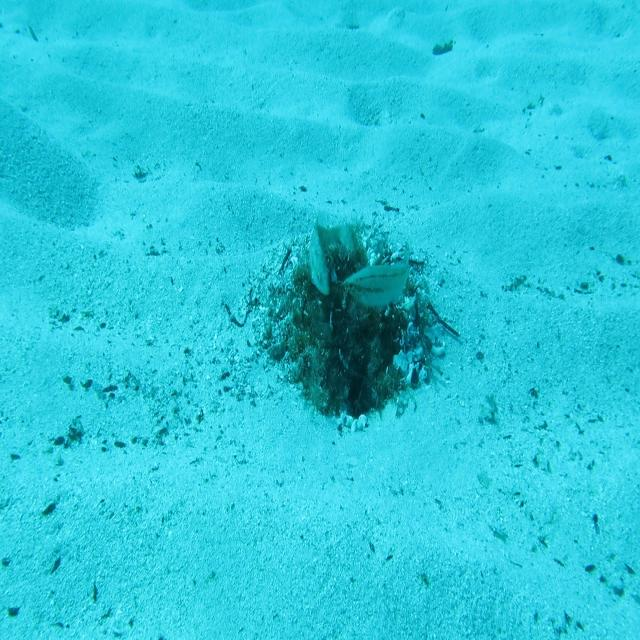SPA: (306, 208, 356, 298)
core_nest: (310, 259, 364, 327)
female: (342, 237, 412, 312)
nest: (236, 214, 454, 448)
vegetation: (430, 42, 456, 58)
